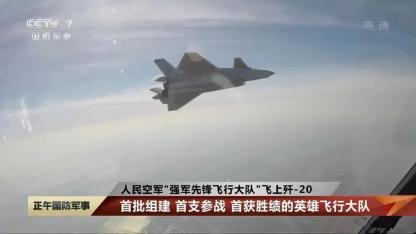F4: (148, 51, 276, 110)
